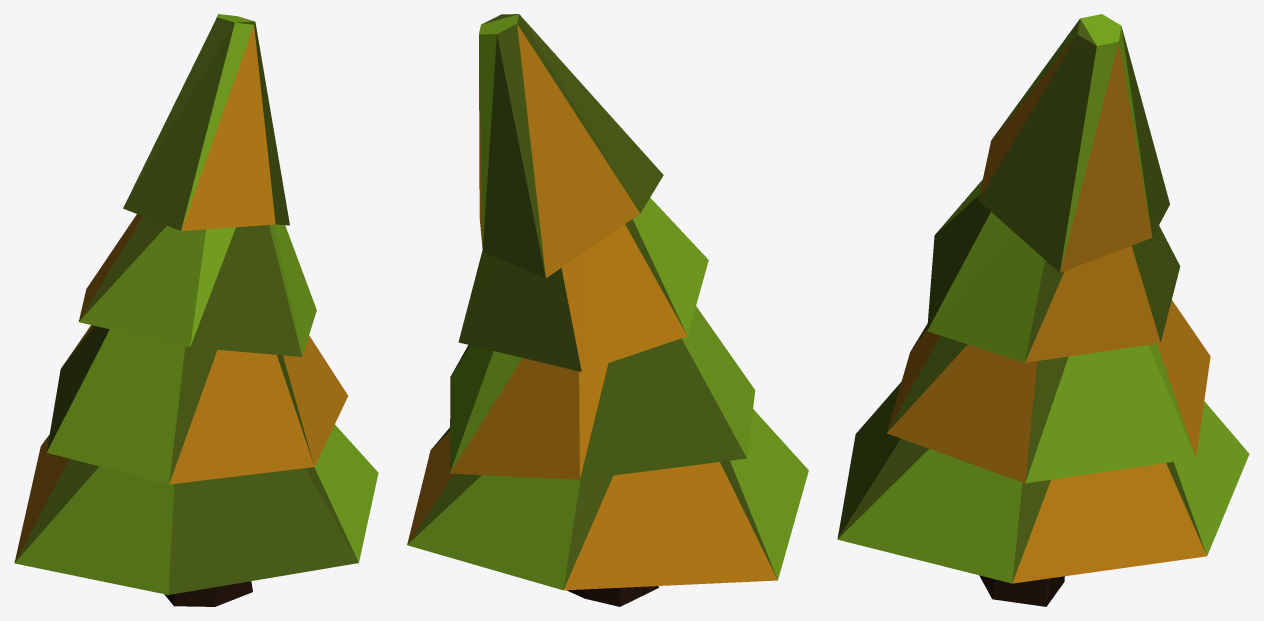
The model's file is Tree2_M2_5_big.fbx.
3 views of the same model, side by side, from view 1: azimuth 30°, elevation 25°; view 2: azimuth 150°, elevation 25°; view 3: azimuth 270°, elevation 25° (orthographic). The views are drawn at different scales.
Parts seen in each view (by area): view 1: Tree2_M2_5_big; view 2: Tree2_M2_5_big; view 3: Tree2_M2_5_big.
Boxes of the visible parts, bbox=[...] form: Tree2_M2_5_big: bbox=[14, 14, 378, 606]; Tree2_M2_5_big: bbox=[407, 14, 808, 606]; Tree2_M2_5_big: bbox=[837, 14, 1249, 606].
Bounding box in the file's own units: 255 × 380 × 239.
